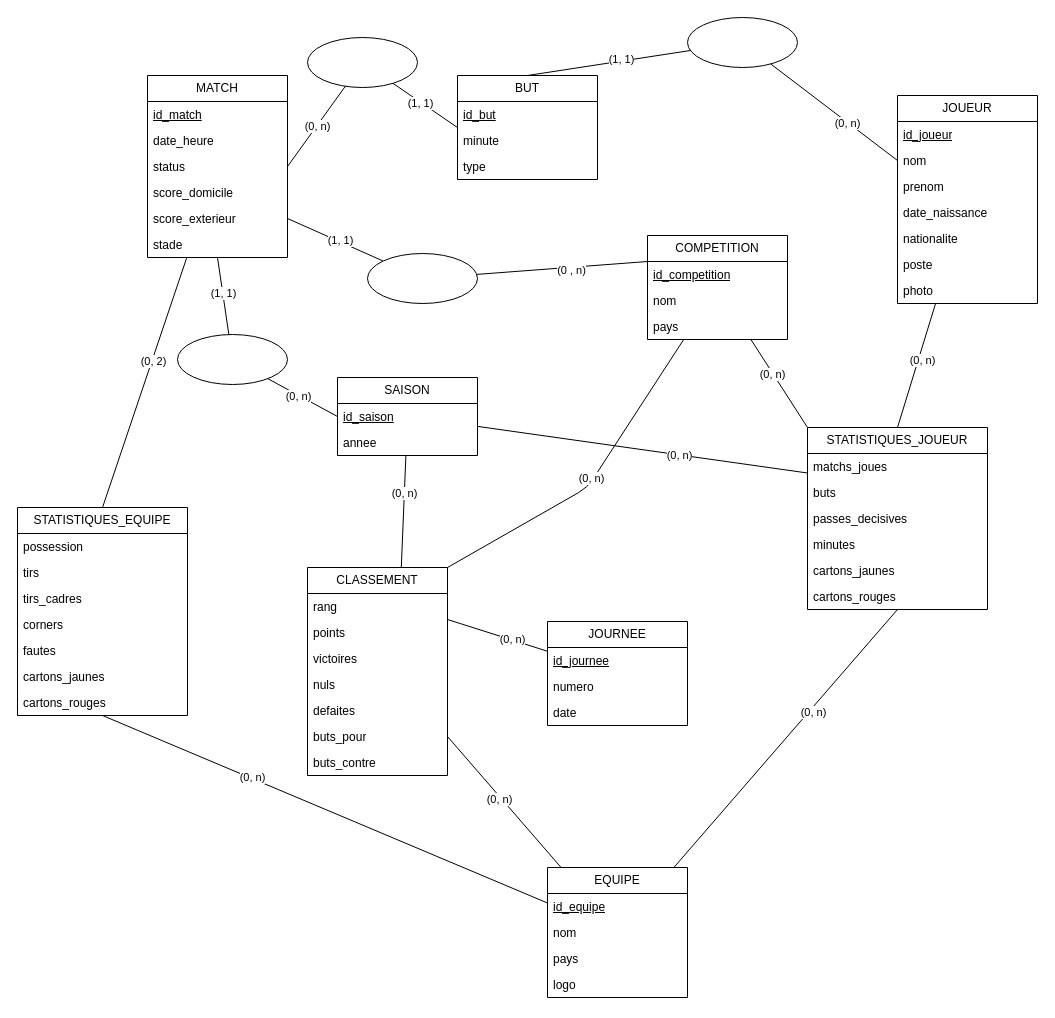
Some shapes in this 1055 by 1018 pixel diagram are drawn without their labels. The centre of each missing label's shape, as x and y in pixels:
"COMPORTER" belongs at (362,62).
"MARQUER" belongs at (742,42).
"SE DEROULANT PENDANT" belongs at (232,359).
"SE JOUER EN" belongs at (422,278).
